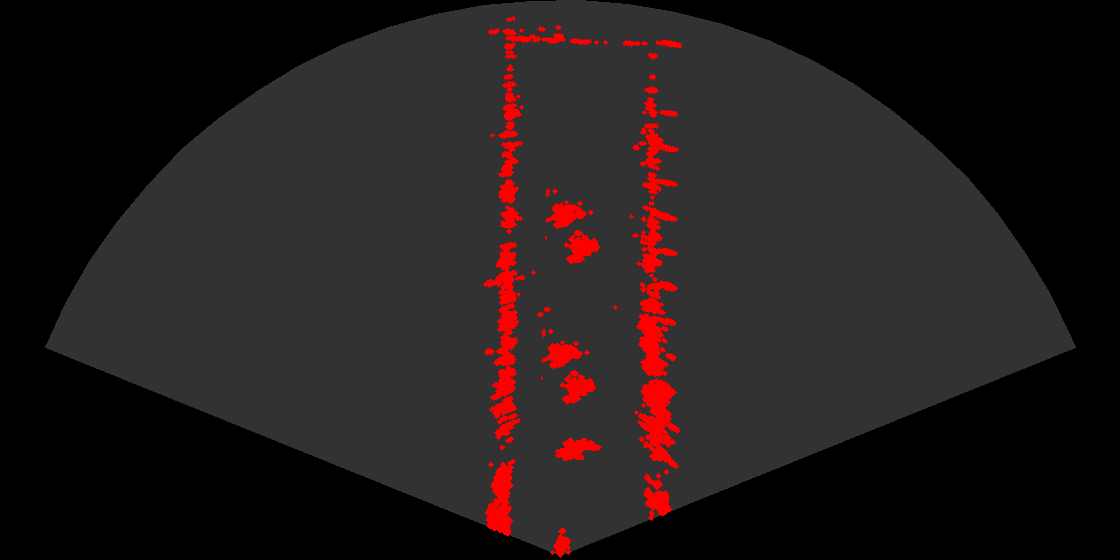AUV: (549, 436, 605, 468)
cage: (545, 189, 608, 273), (541, 329, 604, 413)
